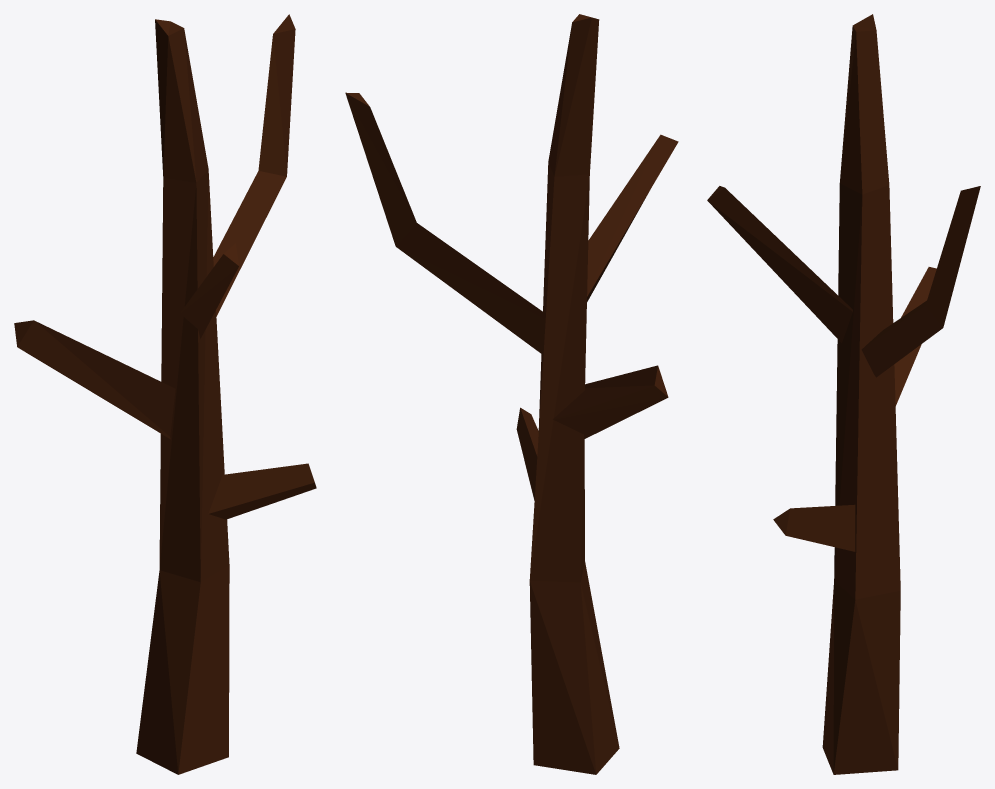
Rendered from Tree3_M1_dead2.fbx.
The picture shows the model from 3 angles, left to right: view 1: azimuth 30°, elevation 25°; view 2: azimuth 150°, elevation 25°; view 3: azimuth 270°, elevation 25°; orthographic projection.
Visible parts, largest first — view 1: Tree3_M1_dead2; view 2: Tree3_M1_dead2; view 3: Tree3_M1_dead2.
Boxes of the visible parts, x1,y1,x2,y2 form: Tree3_M1_dead2: [14, 14, 316, 774]; Tree3_M1_dead2: [345, 14, 678, 774]; Tree3_M1_dead2: [707, 14, 980, 774].
Bounding box in the file's own units: 184 × 439 × 148.
